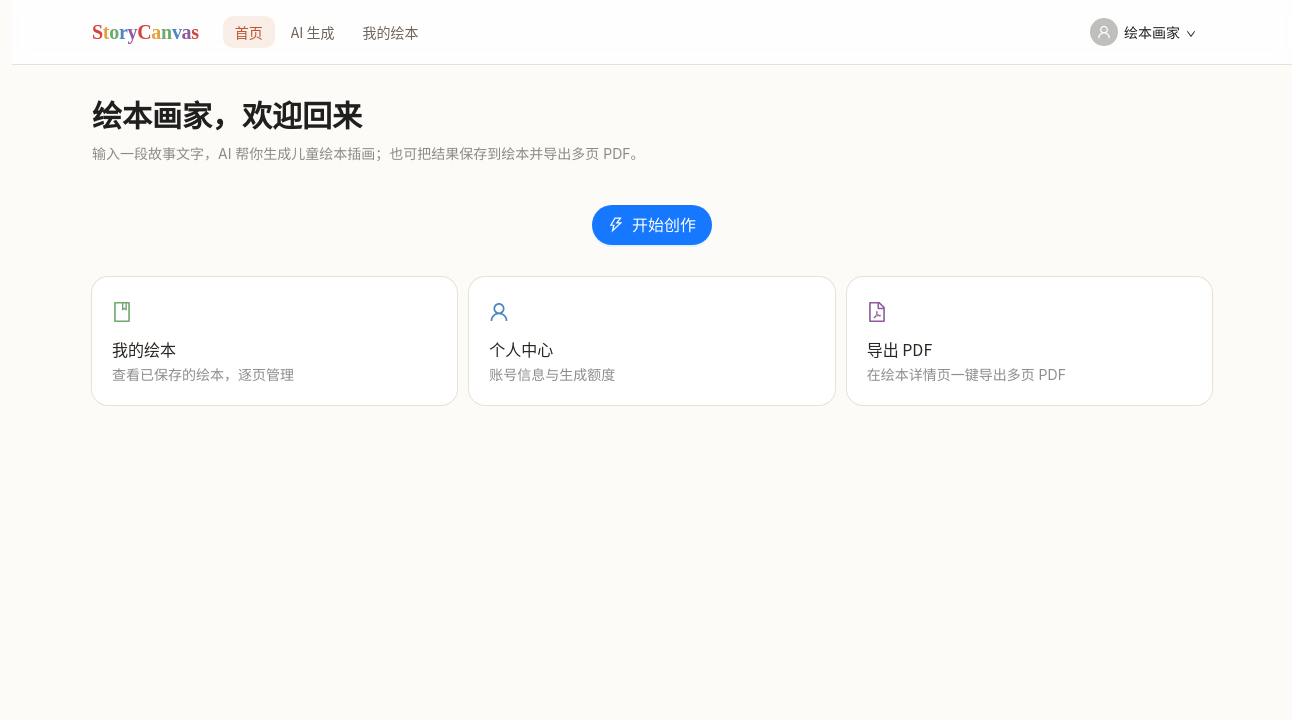
Home 双形态 › 已登录：4 条入口跳转（CTA + 三个 tile）全部可达
Expected: the heading "绘本画家，欢迎回来" is shown, x1=92 y1=97 x2=362 y2=135
Click the button "开始创作".
click(652, 225)  # box x1=592 y1=205 x2=712 y2=245
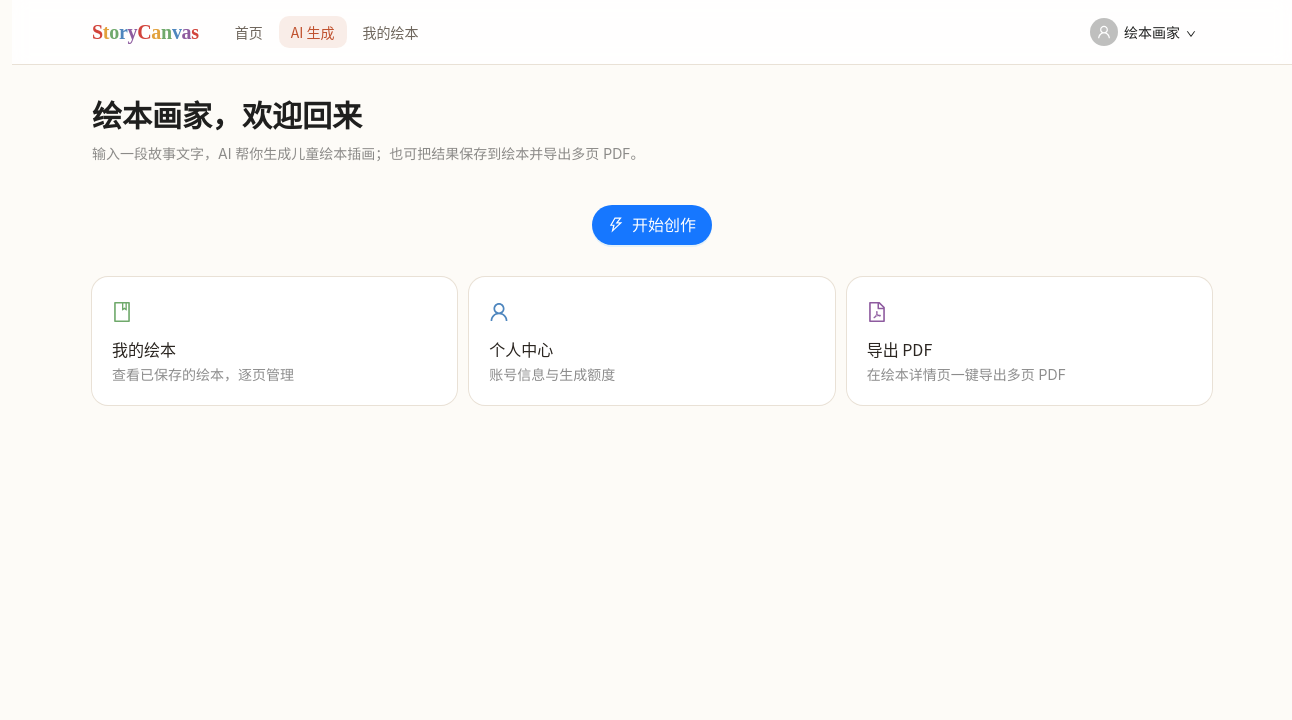
Click the button "我的绘本 查看已保存的绘本，逐页管理".
click(144, 349)  # box x1=92 y1=277 x2=457 y2=405
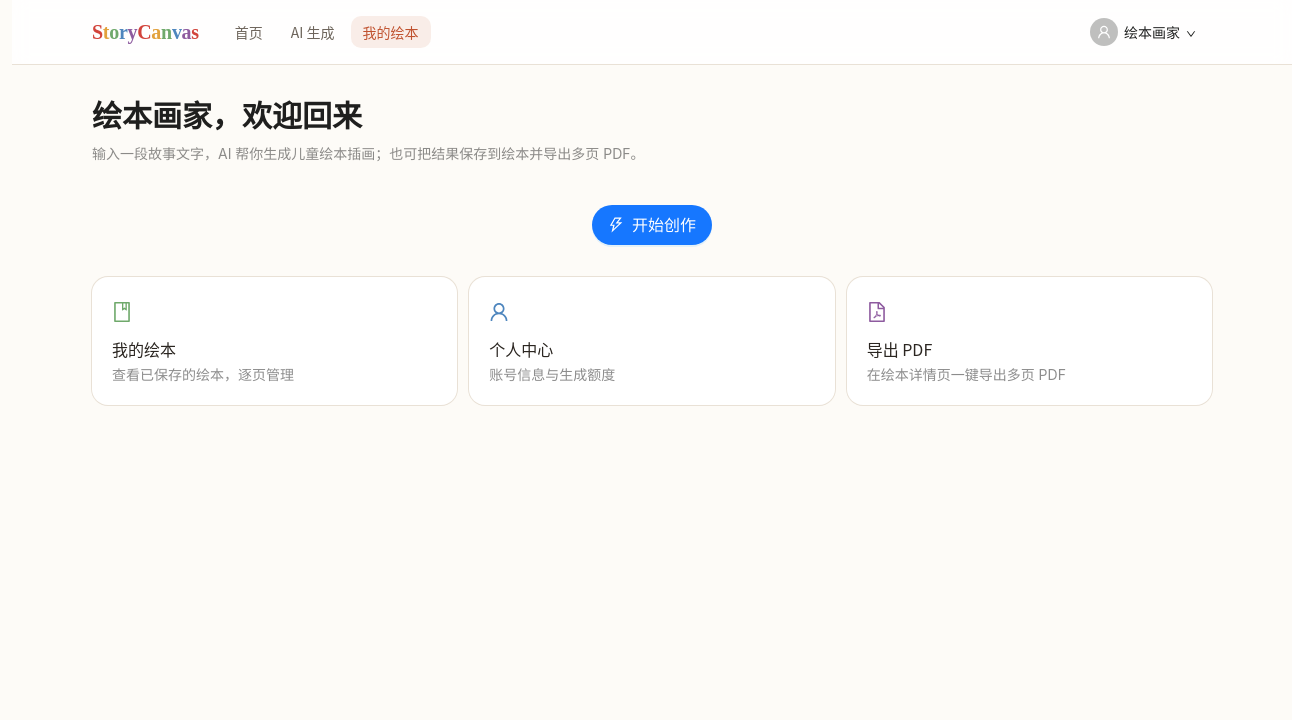
Click the button "个人中心 账号信息与生成额度".
click(521, 349)  # box x1=469 y1=277 x2=835 y2=405
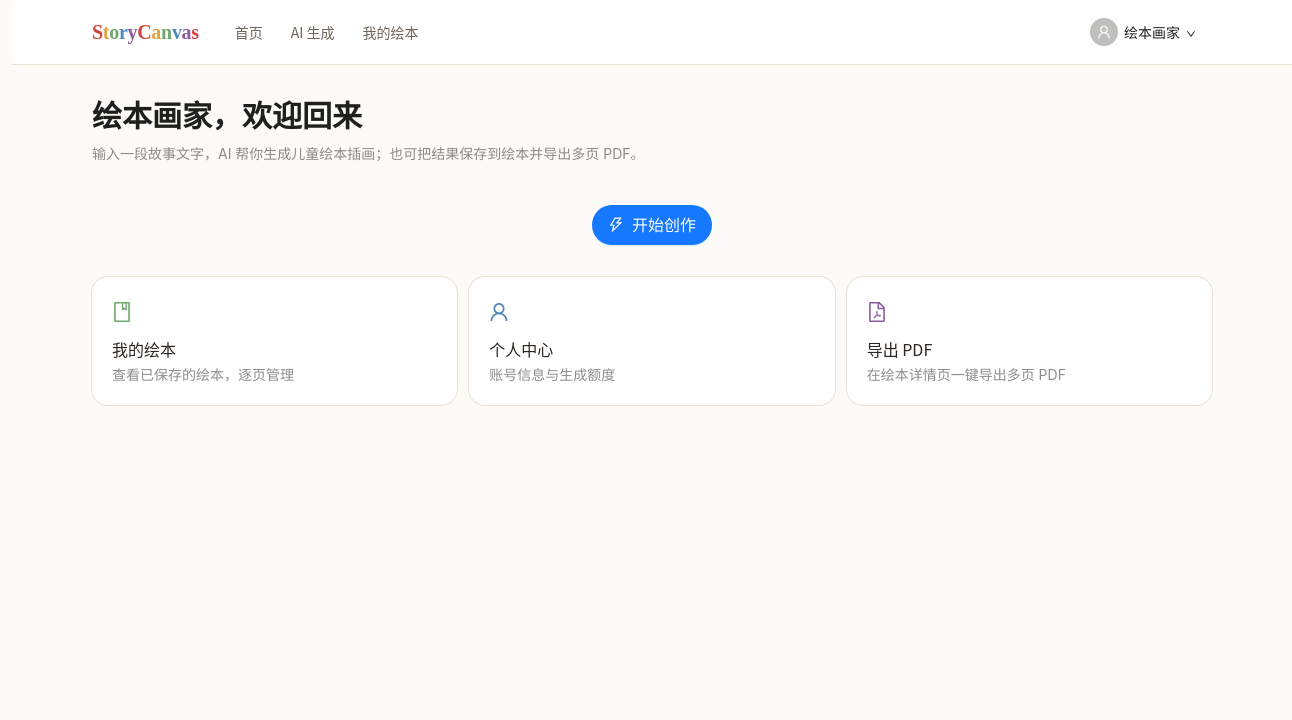
Click the button "导出 PDF 在绘本详情页一键导出多页 PDF".
click(899, 349)  # box x1=847 y1=277 x2=1212 y2=405
(page scrolled)
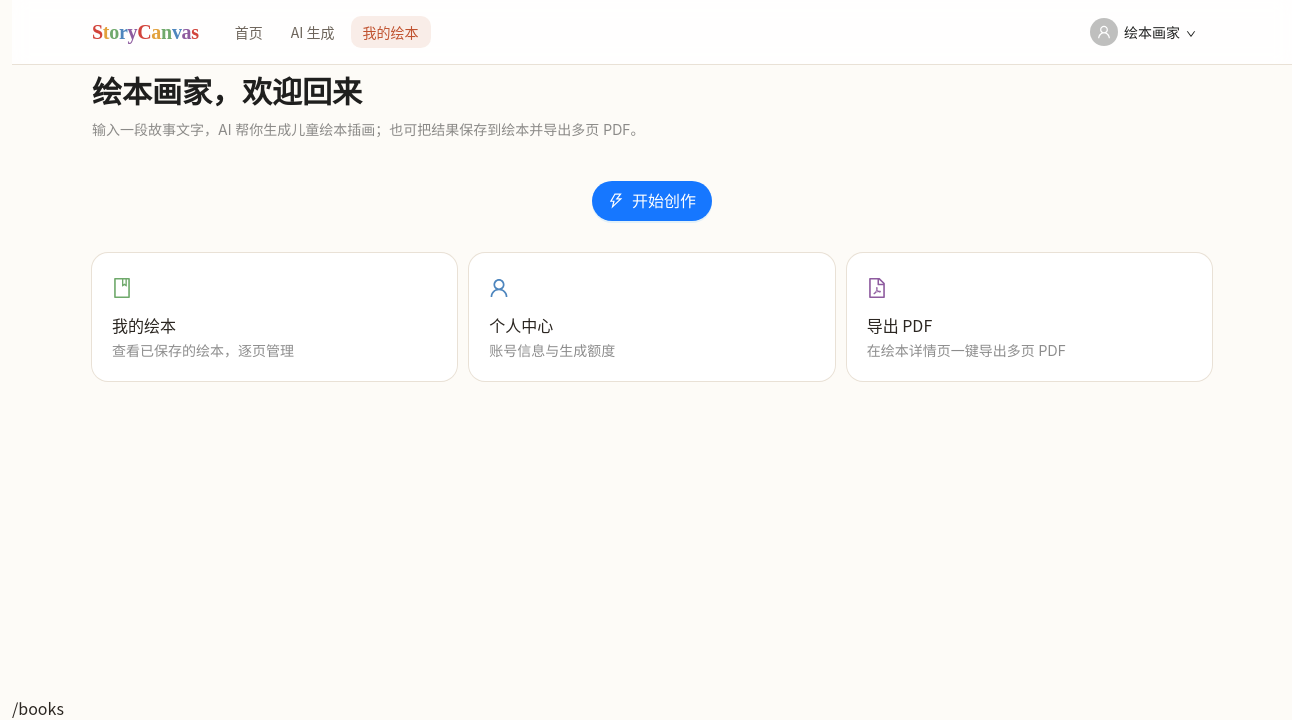
Expected: the text with test id "path" reads "/books", x1=12 y1=696 x2=64 y2=719
